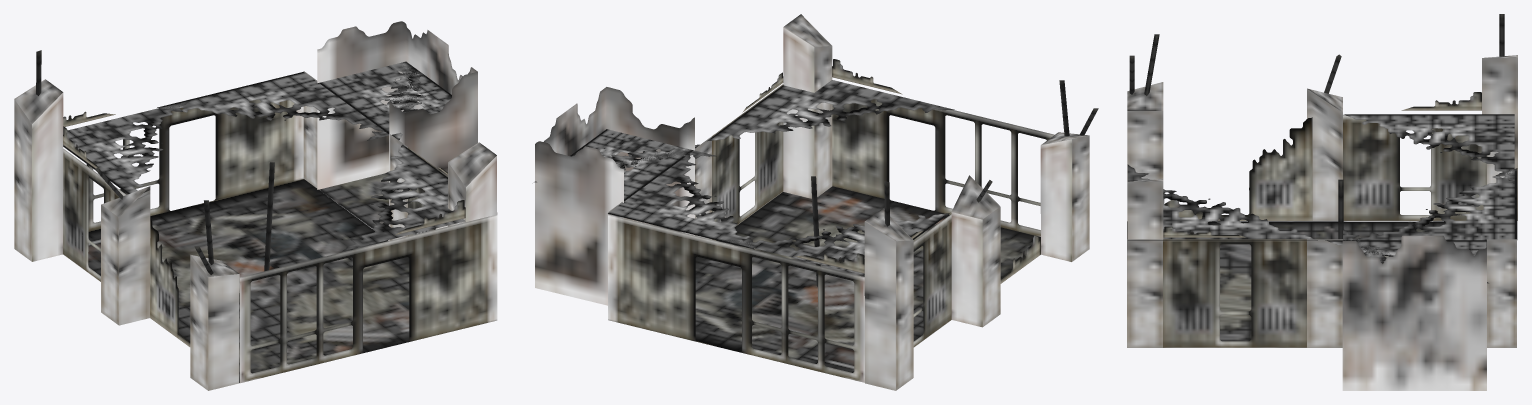
File: s_sensorcontrol_dam.glb
3 views of the same model, side by side, from view 1: azimuth 30°, elevation 25°; view 2: azimuth 150°, elevation 25°; view 3: azimuth 270°, elevation 25° (orthographic).
Visible parts, largest first — view 1: L_SensorControl; view 2: L_SensorControl; view 3: L_SensorControl.
Part boxes in pixels (x1,y1,x2,y2): L_SensorControl: (14,21,497,390); L_SensorControl: (534,14,1098,390); L_SensorControl: (1127,14,1517,390).
Bounding box in the file's own units: 15 × 7.43 × 13.04.
Materials: 1 (1 with a texture image).
